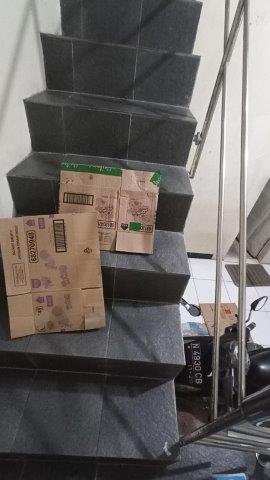kardus: (2, 214, 105, 336), (61, 164, 159, 252), (180, 304, 238, 335)
